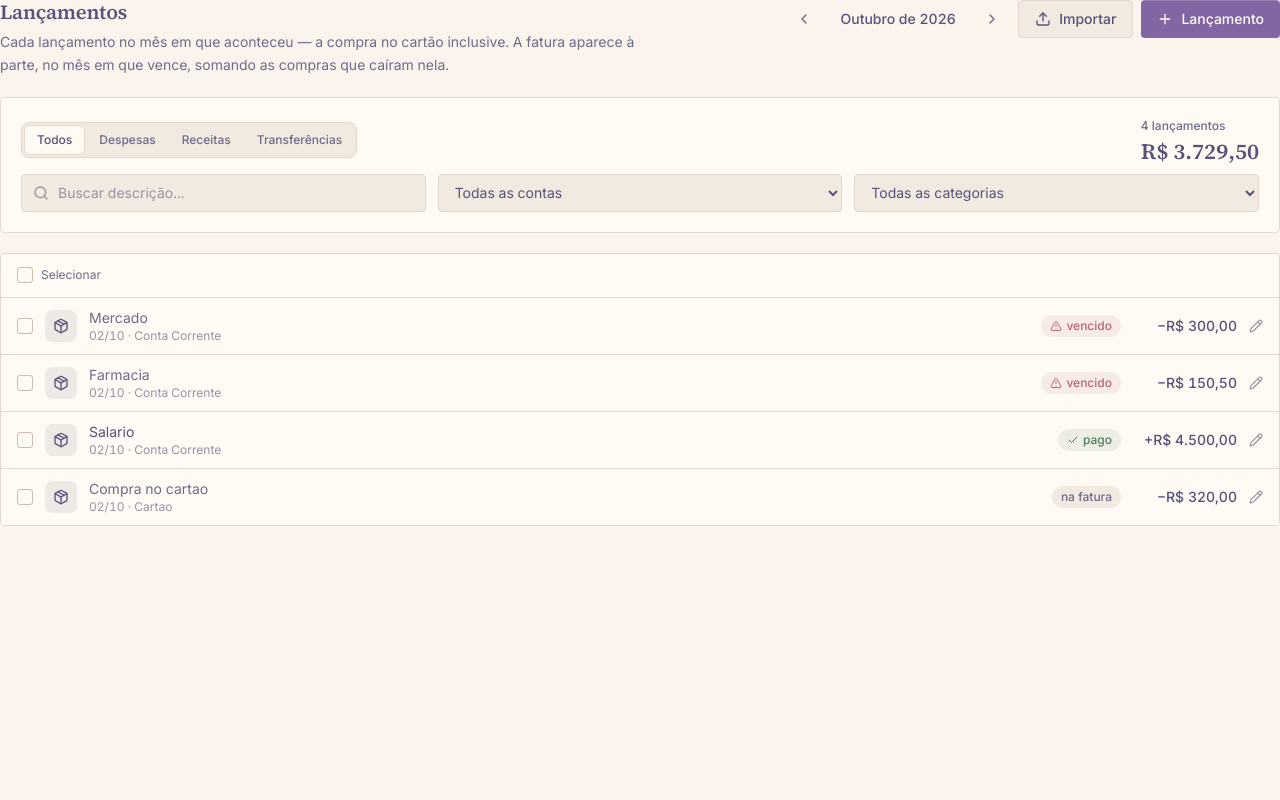
Test: seleção de lançamentos › clicar na caixa não abre o editor; clicar na linha abre
Click the checkbox named "Selecionar Mercado, ". click: coordinates (25, 326)
box: x1=17 y1=318 x2=33 y2=334
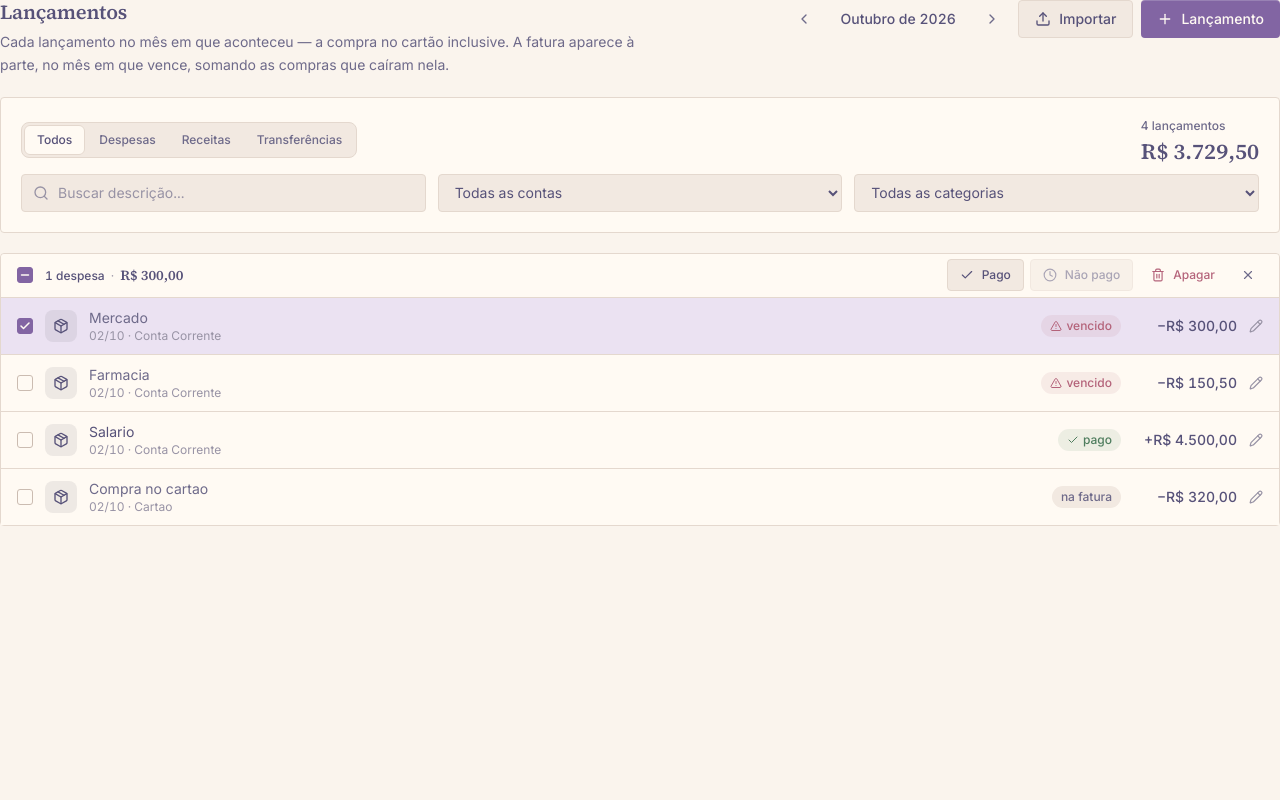
Click the text "Mercado". click: coordinates (118, 317)
box: x1=89 y1=308 x2=148 y2=326
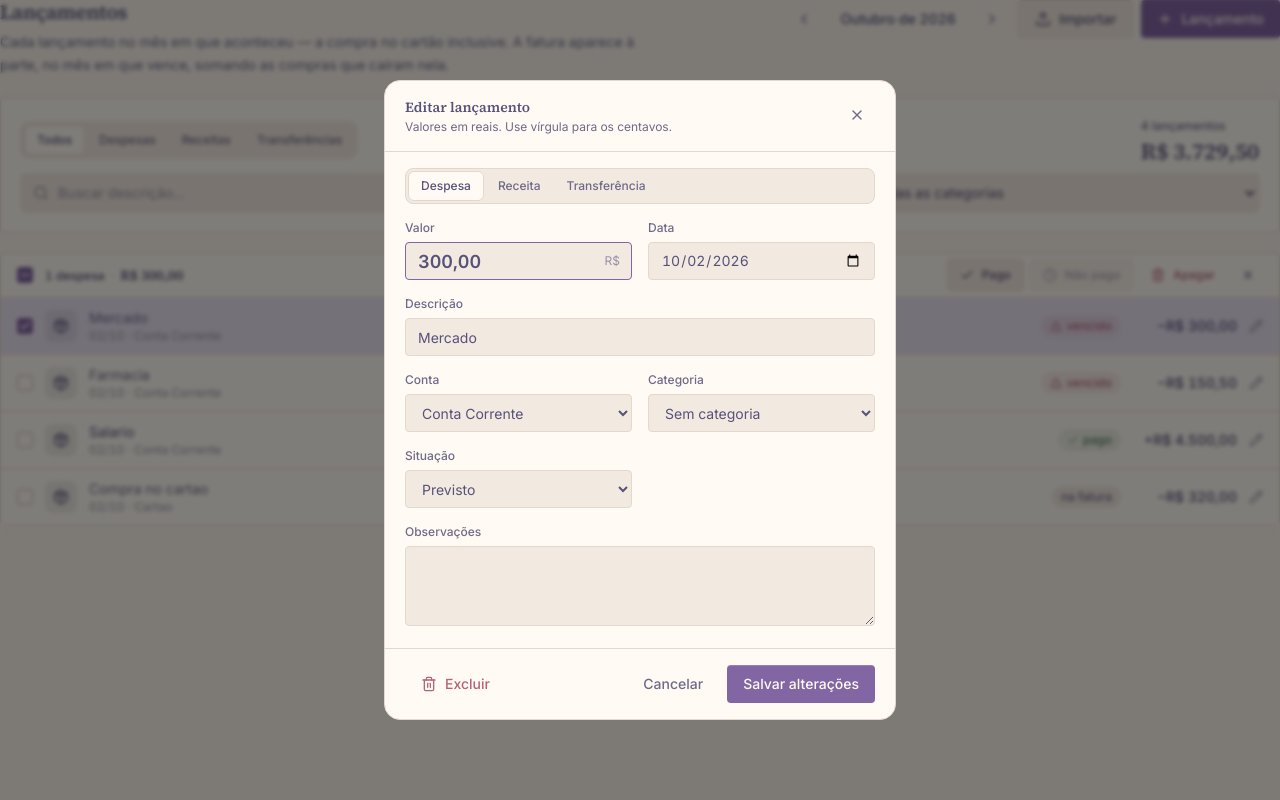
Expected: the dialog is shown, x1=384 y1=80 x2=896 y2=720
